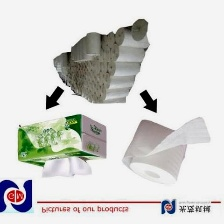tissue: (46, 14, 154, 110), (115, 111, 214, 190), (12, 111, 109, 172), (36, 153, 95, 183)
